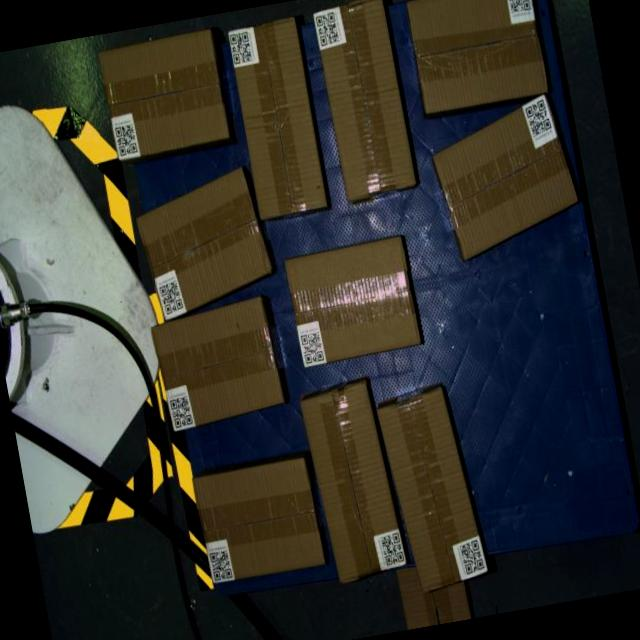box: (425, 90, 585, 262), (374, 384, 489, 595), (130, 164, 278, 324), (298, 380, 408, 584), (309, 0, 417, 202), (226, 16, 328, 220), (148, 294, 286, 432), (284, 234, 422, 367), (190, 455, 326, 585), (97, 28, 230, 160), (404, 0, 548, 114)
